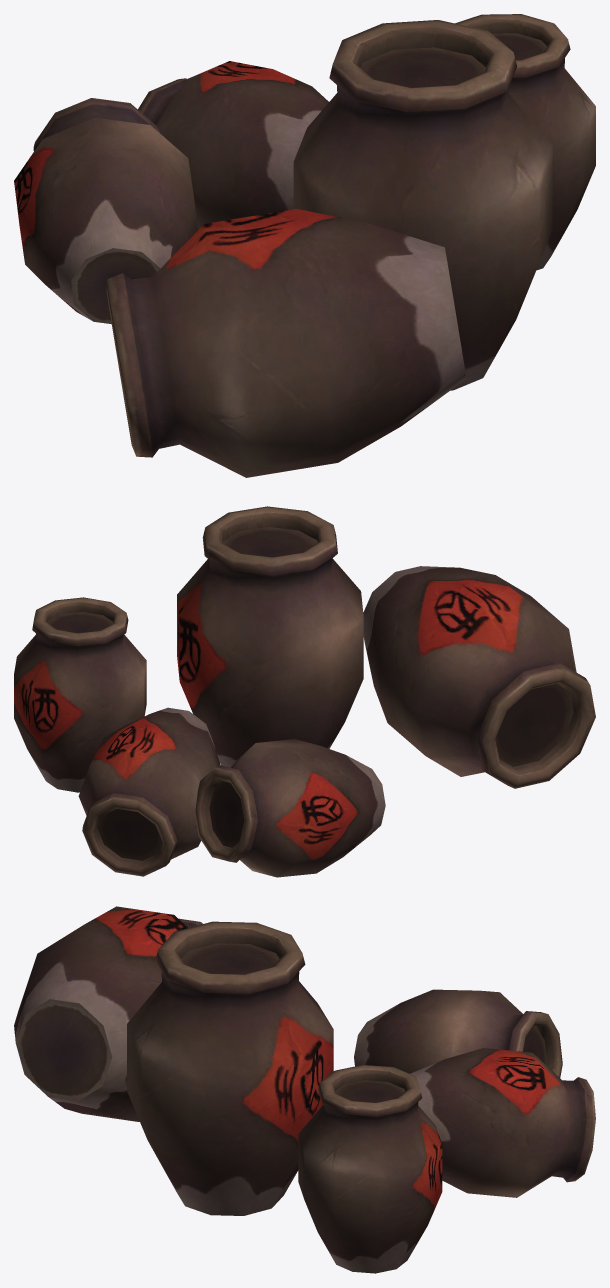
File: q01a_thing_05.FBX
3 renders of one model, top to bottom at view 1: azimuth 30°, elevation 25°; view 2: azimuth 150°, elevation 25°; view 3: azimuth 270°, elevation 25°, orthographic. The views are drawn at different scales.
Visible parts, largest first — view 1: q01a_thing_05; view 2: q01a_thing_05; view 3: q01a_thing_05.
Part boxes in pixels (x1,y1,x2,y2): q01a_thing_05: [14, 14, 595, 477]; q01a_thing_05: [14, 506, 595, 877]; q01a_thing_05: [14, 906, 595, 1273].
Bounding box in the file's own units: 50.24 × 24.14 × 51.92.
